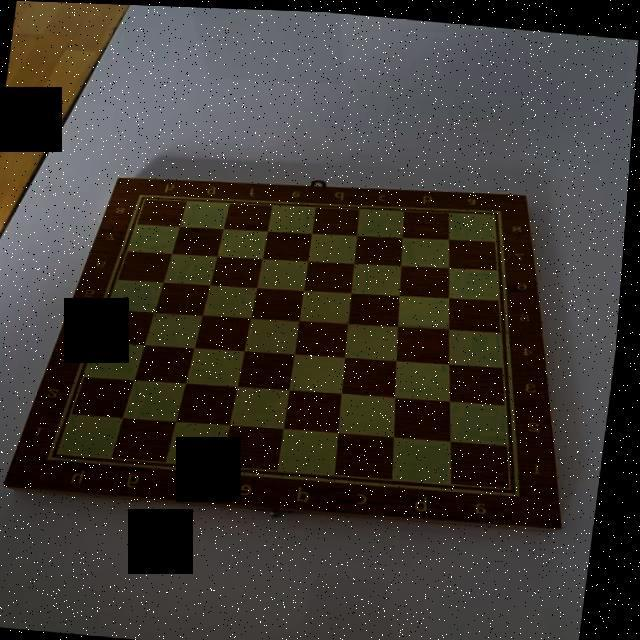chess-table-corners: (40, 445, 77, 469), (509, 478, 535, 498), (136, 189, 158, 204), (490, 202, 508, 216)
